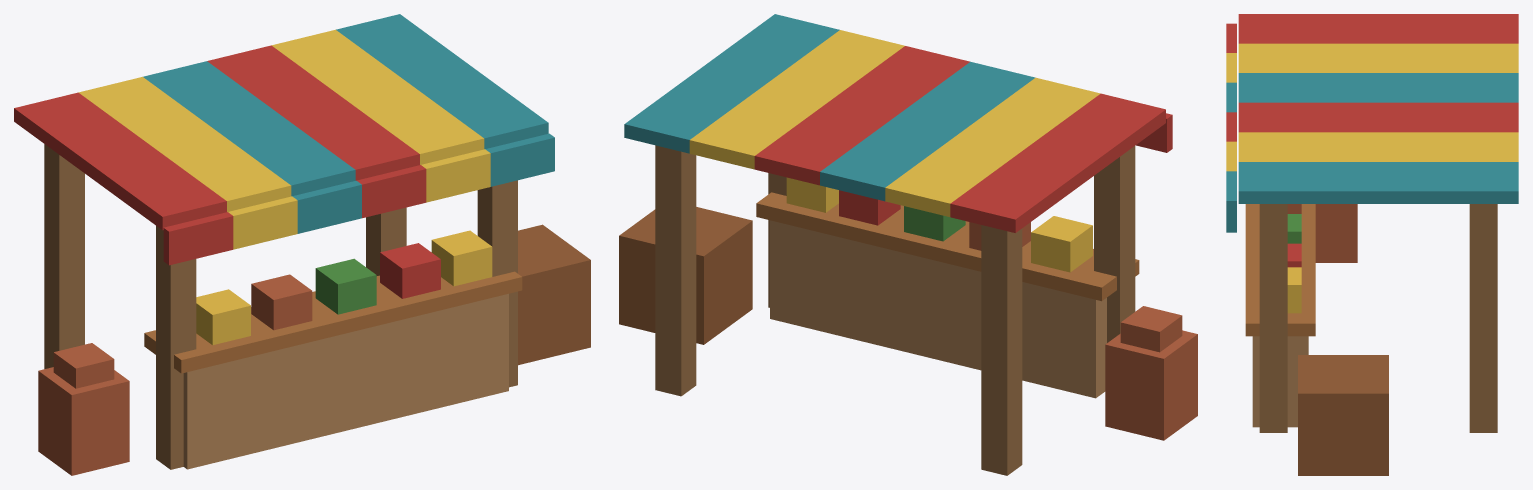
File: DesertStall.glb
3 renders of one model, left to right at view 1: azimuth 30°, elevation 25°; view 2: azimuth 150°, elevation 25°; view 3: azimuth 270°, elevation 25°, orthographic. The views are drawn at different scales.
Visible parts, largest first — view 1: DesertStall; view 2: DesertStall; view 3: DesertStall.
Boxes of the visible parts, x1,y1,x2,y2 form: DesertStall: [14, 14, 590, 475]; DesertStall: [619, 14, 1197, 475]; DesertStall: [1226, 14, 1518, 475].
Bounding box in the file's own units: 16.2 × 7.9 × 8.35.
Materials: 1 (1 with a texture image).
